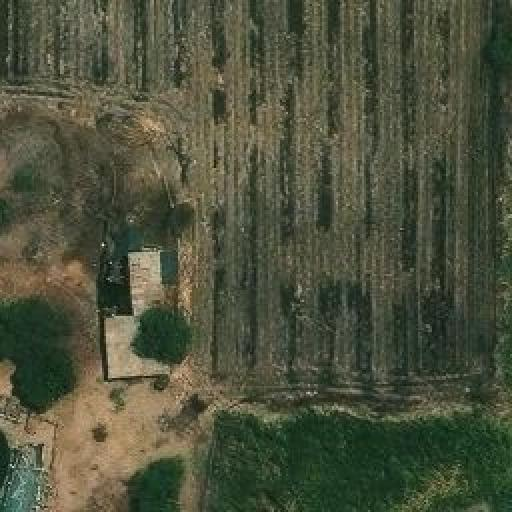manzanas: (100, 248, 179, 384)
